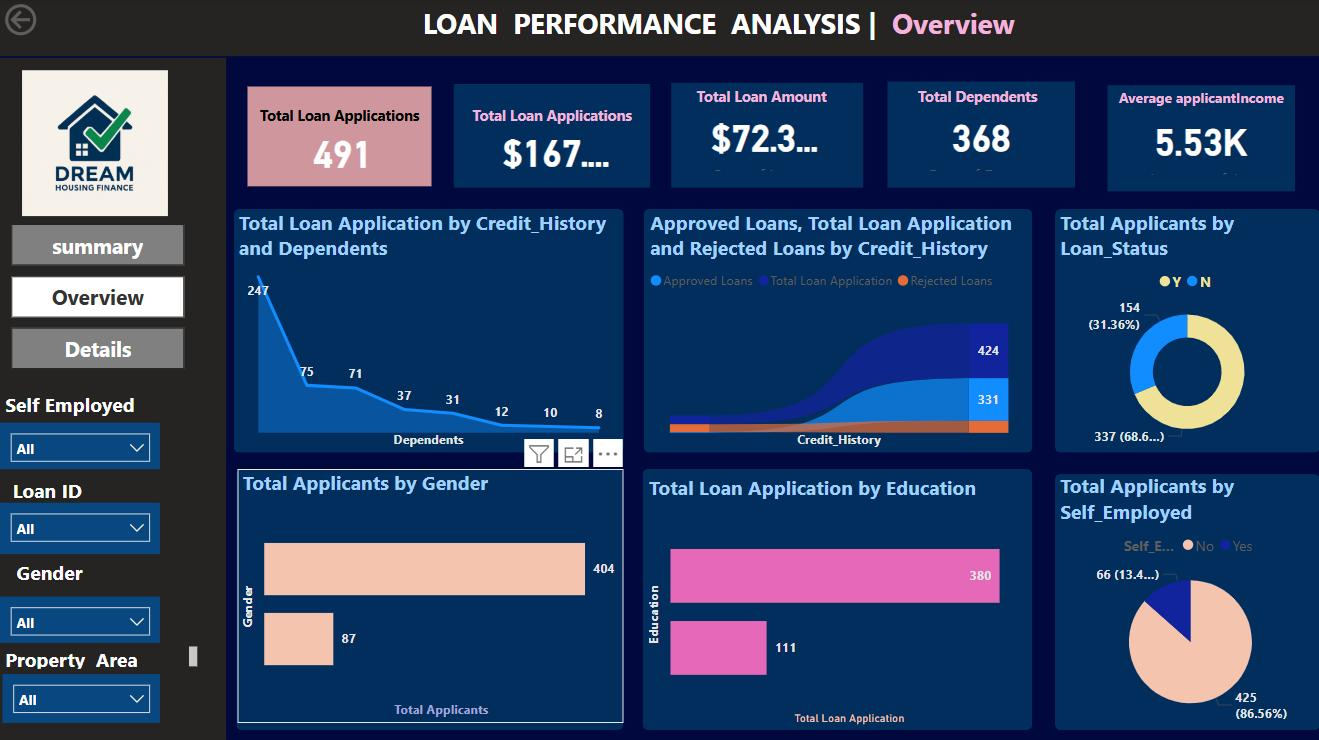

What the dashboard file says about the page in this screenshot:
{"tool":"powerbi","page":{"name":"Overview","canvas":[1280,720],"ordinal":1},"visuals":[{"type":"shape","box":[620.1,453.6,376.4,252.1],"z":0},{"type":"shape","box":[0,0,1280,55.5],"z":1000},{"type":"shape","box":[0,56.7,218.4,663.5],"z":2000},{"type":"shape","box":[857.1,79.6,181.2,102.5],"z":2000,"group":"g4"},{"type":"shape","box":[648.2,80.7,185.2,101.3],"z":2000,"group":"g3"},{"type":"shape","box":[437.9,82,189.9,100.1],"z":2000,"group":"g2"},{"type":"shape","box":[1069.4,83.2,181.2,102.5],"z":2000,"group":"g5"},{"type":"shape","box":[238.8,84.5,177.9,96.5],"z":2000,"group":"g1"},{"type":"textbox","box":[403,0,593.6,63.9],"z":3000},{"type":"card","fields":{"Values":["Sum(cl_train_loan_eligibility.LoanAmount)"]},"box":[678.4,114.2,120.1,56.4],"z":3000,"group":"g3"},{"type":"card","fields":{"Values":["Sum(cl_train_loan_eligibility.Dependents)"]},"box":[888.6,114.7,116.3,56.4],"z":3000,"group":"g4"},{"type":"card","fields":{"Values":["Avg(cl_train_loan_eligibility.ApplicantIncome)"]},"box":[1100.9,118.3,116.3,56.4],"z":3000,"group":"g5"},{"type":"card","fields":{"Values":["Sum(cl_train_loan_eligibility.Loan_Amount_Term)"]},"box":[471.3,130.6,130.2,53.1],"z":3000,"group":"g2"},{"type":"card","fields":{"Values":["cl_train_loan_eligibility.Total Loan Application"]},"box":[269.8,131.8,121.3,53.1],"z":3000,"group":"g1"},{"type":"group","id":"g1","title":"Group 1","box":[237.1,84.5,179.8,100.4],"z":4000},{"type":"group","id":"g2","title":"Group 1","box":[435.5,82,194.2,101.3],"z":5000},{"type":"group","id":"g3","title":"Group 1","box":[645.4,79.6,188.2,102.5],"z":6000},{"type":"group","id":"g4","title":"Group 1","box":[856.6,79.6,181,102.5],"z":7000},{"type":"group","id":"g5","title":"Group 1","box":[1069,80.5,181.6,105.3],"z":8000},{"type":"actionButton","box":[0,0,100,40],"z":9000},{"type":"textbox","box":[645.4,79.6,179.2,34.6],"z":9000,"group":"g3"},{"type":"textbox","box":[856.6,80,173.5,34.6],"z":9000,"group":"g4"},{"type":"textbox","box":[1069,80.5,181,37.4],"z":9000,"group":"g5"},{"type":"textbox","box":[237.1,97.2,179.8,33.8],"z":9000,"group":"g1"},{"type":"textbox","box":[435.5,98,194.2,32.6],"z":9000,"group":"g2"},{"type":"shape","box":[225.6,202.7,376.4,235.3],"z":10000},{"type":"slicer","fields":{"Values":["cl_train_loan_eligibility.Loan_ID"]},"box":[0,486.2,154.4,49.5],"z":11000},{"type":"textbox","box":[7.2,457.2,95.3,35],"z":12000},{"type":"slicer","fields":{"Values":["cl_train_loan_eligibility.Loan_ID"]},"box":[0,576.7,154.4,44.6],"z":13000},{"type":"textbox","box":[10.9,535.7,91.7,47.1],"z":14000},{"type":"slicer","fields":{"Values":["cl_train_loan_eligibility.Property_Area"]},"box":[2.4,651.5,152,47.1],"z":15000},{"type":"textbox","box":[0,620.1,195.4,31.4],"z":16000},{"type":"areaChart","fields":{"Category":["cl_train_loan_eligibility.Credit_History","cl_train_loan_eligibility.Dependents"],"Y":["cl_train_loan_eligibility.Total Loan Application"]},"box":[225.6,202.7,376.4,235.3],"z":17000},{"type":"shape","box":[621.3,202.7,375.2,235.3],"z":18000},{"type":"ribbonChart","fields":{"Y":["cl_train_loan_eligibility.Approved Loans","cl_train_loan_eligibility.Total Loan Application","cl_train_loan_eligibility.Rejected Loans"],"Category":["cl_train_loan_eligibility.Credit_History"]},"box":[622.5,202.7,375.2,235.3],"z":19000},{"type":"shape","box":[1018.2,202.7,255.8,235.3],"z":20000},{"type":"donutChart","fields":{"Category":["cl_train_loan_eligibility.Loan_Status"],"Y":["cl_train_loan_eligibility.Total Applicants"]},"box":[1018.2,202.7,255.8,235.3],"z":21000},{"type":"barChart","fields":{"Category":["cl_train_loan_eligibility.Education"],"Y":["cl_train_loan_eligibility.Total Loan Application"]},"box":[621.3,458.4,376.4,247.3],"z":22000},{"type":"shape","box":[228,453.6,374,252.1],"z":23000},{"type":"barChart","fields":{"Category":["cl_train_loan_eligibility.Gender"],"Y":["cl_train_loan_eligibility.Total Applicants"]},"box":[229.2,453.6,372.8,244.9],"z":24000},{"type":"shape","box":[1018.2,458.4,255.8,247.3],"z":25000},{"type":"pieChart","fields":{"Category":["cl_train_loan_eligibility.Self_Employed"],"Y":["cl_train_loan_eligibility.Total Applicants"]},"box":[1018.2,457.2,261.8,247.3],"z":26000},{"type":"slicer","fields":{"Values":["cl_train_loan_eligibility.Self_Employed"]},"box":[0,409,154.4,44.6],"z":27000},{"type":"textbox","box":[0,374,154.4,35],"z":27001},{"type":"pageNavigator","box":[10.9,217.2,167.7,142.4],"z":27002},{"type":"image","box":[15.7,63.9,152,150.8],"z":27003}]}

Visuals, with their boxes in screenshot pixels (x1, y1, x2, y2), scaled from the page's 1280x720 canvas onto the 1319x740 screenshot:
shape: pyautogui.locateOnScreen(639, 466, 1027, 725)
shape: pyautogui.locateOnScreen(0, 0, 1318, 57)
shape: pyautogui.locateOnScreen(0, 58, 225, 739)
shape: pyautogui.locateOnScreen(883, 82, 1070, 187)
shape: pyautogui.locateOnScreen(668, 83, 859, 187)
shape: pyautogui.locateOnScreen(451, 84, 647, 187)
shape: pyautogui.locateOnScreen(1102, 86, 1289, 191)
shape: pyautogui.locateOnScreen(246, 87, 429, 186)
textbox: pyautogui.locateOnScreen(415, 0, 1027, 66)
card - Sum(cl_train_loan_eligibility.LoanAmount): pyautogui.locateOnScreen(699, 117, 823, 175)
card - Sum(cl_train_loan_eligibility.Dependents): pyautogui.locateOnScreen(916, 118, 1036, 176)
card - Avg(cl_train_loan_eligibility.ApplicantIncome): pyautogui.locateOnScreen(1134, 122, 1254, 180)
card - Sum(cl_train_loan_eligibility.Loan_Amount_Term): pyautogui.locateOnScreen(486, 134, 620, 189)
card - cl_train_loan_eligibility.Total Loan Application: pyautogui.locateOnScreen(278, 135, 403, 190)
"Group 1" group: pyautogui.locateOnScreen(244, 87, 430, 190)
"Group 1" group: pyautogui.locateOnScreen(449, 84, 649, 188)
"Group 1" group: pyautogui.locateOnScreen(665, 82, 859, 187)
"Group 1" group: pyautogui.locateOnScreen(883, 82, 1069, 187)
"Group 1" group: pyautogui.locateOnScreen(1102, 83, 1289, 191)
actionButton: pyautogui.locateOnScreen(0, 0, 103, 41)
textbox: pyautogui.locateOnScreen(665, 82, 850, 117)
textbox: pyautogui.locateOnScreen(883, 82, 1061, 118)
textbox: pyautogui.locateOnScreen(1102, 83, 1288, 121)
textbox: pyautogui.locateOnScreen(244, 100, 430, 135)
textbox: pyautogui.locateOnScreen(449, 101, 649, 134)
shape: pyautogui.locateOnScreen(232, 208, 620, 450)
slicer - cl_train_loan_eligibility.Loan_ID: pyautogui.locateOnScreen(0, 500, 159, 551)
textbox: pyautogui.locateOnScreen(7, 470, 106, 506)
slicer - cl_train_loan_eligibility.Loan_ID: pyautogui.locateOnScreen(0, 593, 159, 639)
textbox: pyautogui.locateOnScreen(11, 551, 106, 599)
slicer - cl_train_loan_eligibility.Property_Area: pyautogui.locateOnScreen(2, 670, 159, 718)
textbox: pyautogui.locateOnScreen(0, 637, 201, 670)
areaChart - cl_train_loan_eligibility.Credit_History x cl_train_loan_eligibility.Dependents: pyautogui.locateOnScreen(232, 208, 620, 450)
shape: pyautogui.locateOnScreen(640, 208, 1027, 450)
ribbonChart - cl_train_loan_eligibility.Approved Loans x cl_train_loan_eligibility.Total Loan Application: pyautogui.locateOnScreen(641, 208, 1028, 450)
shape: pyautogui.locateOnScreen(1049, 208, 1313, 450)
donutChart - cl_train_loan_eligibility.Loan_Status x cl_train_loan_eligibility.Total Applicants: pyautogui.locateOnScreen(1049, 208, 1313, 450)
barChart - cl_train_loan_eligibility.Education x cl_train_loan_eligibility.Total Loan Application: pyautogui.locateOnScreen(640, 471, 1028, 725)
shape: pyautogui.locateOnScreen(235, 466, 620, 725)
barChart - cl_train_loan_eligibility.Gender x cl_train_loan_eligibility.Total Applicants: pyautogui.locateOnScreen(236, 466, 620, 718)
shape: pyautogui.locateOnScreen(1049, 471, 1313, 725)
pieChart - cl_train_loan_eligibility.Self_Employed x cl_train_loan_eligibility.Total Applicants: pyautogui.locateOnScreen(1049, 470, 1318, 724)
slicer - cl_train_loan_eligibility.Self_Employed: pyautogui.locateOnScreen(0, 420, 159, 466)
textbox: pyautogui.locateOnScreen(0, 384, 159, 420)
pageNavigator: pyautogui.locateOnScreen(11, 223, 184, 370)
image: pyautogui.locateOnScreen(16, 66, 173, 221)
